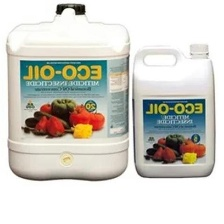insecticide: (3, 1, 132, 184), (129, 40, 218, 182)
